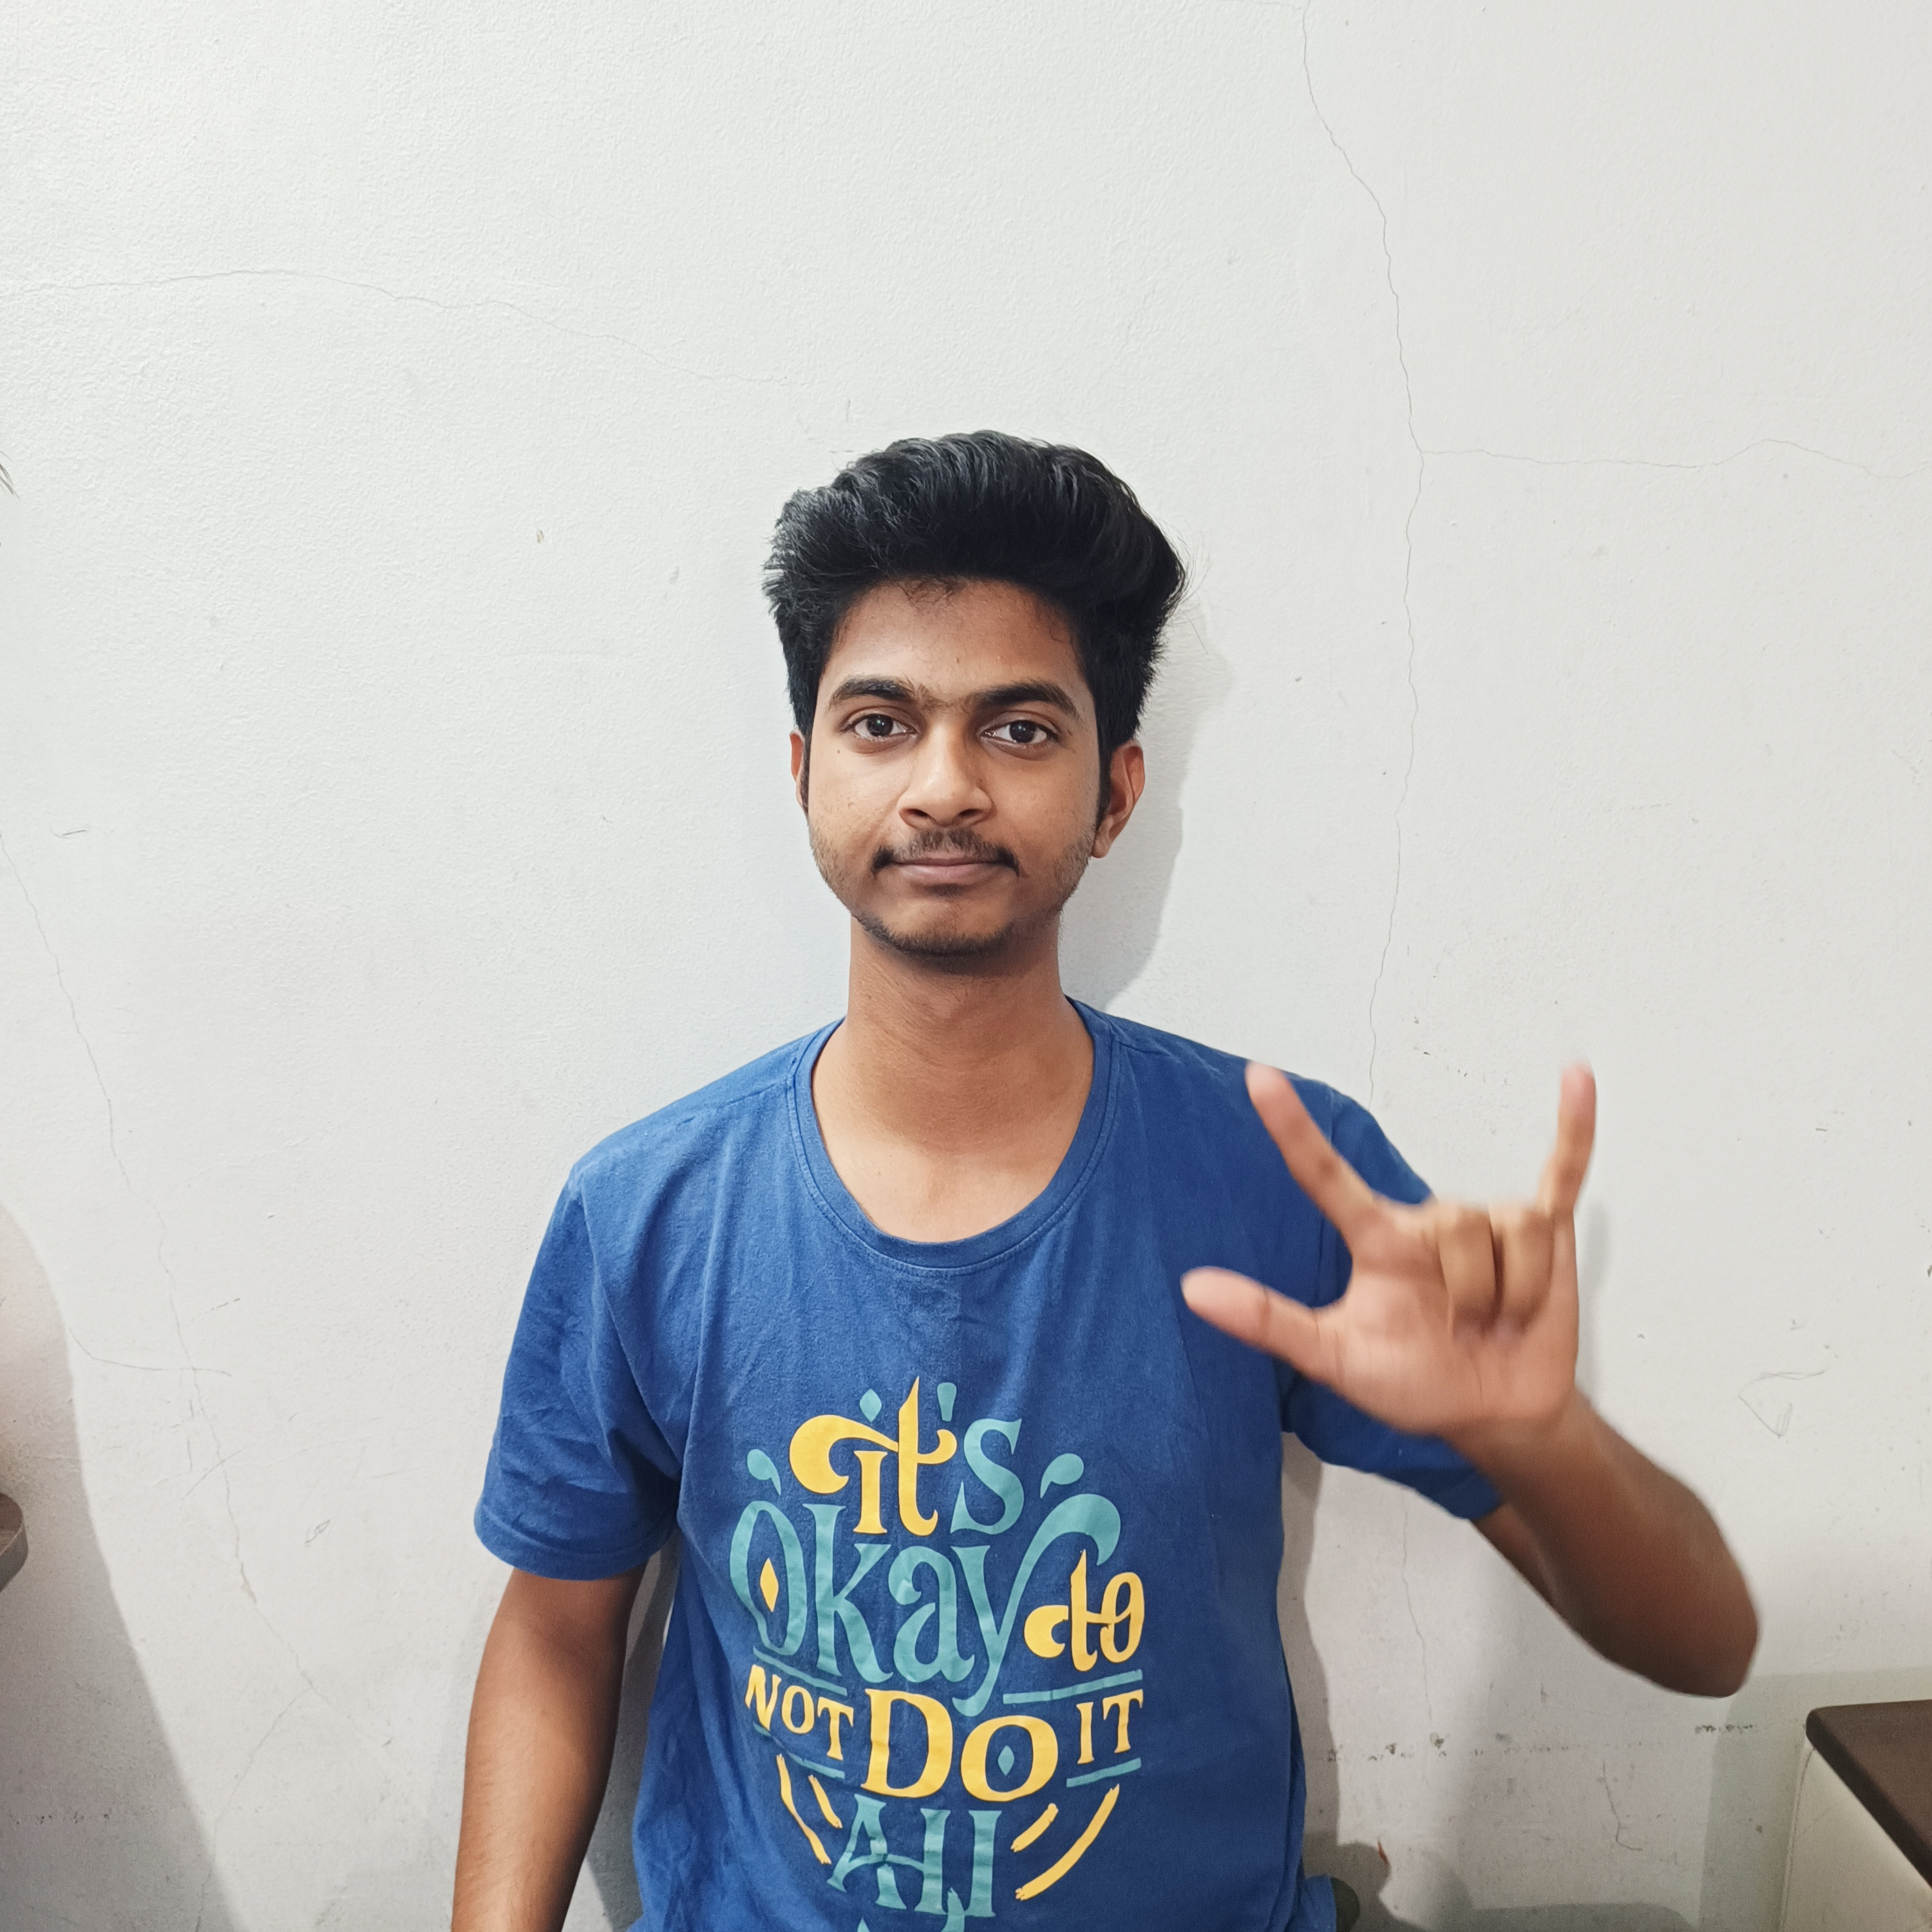NO: (1157, 1040, 1637, 1470)
